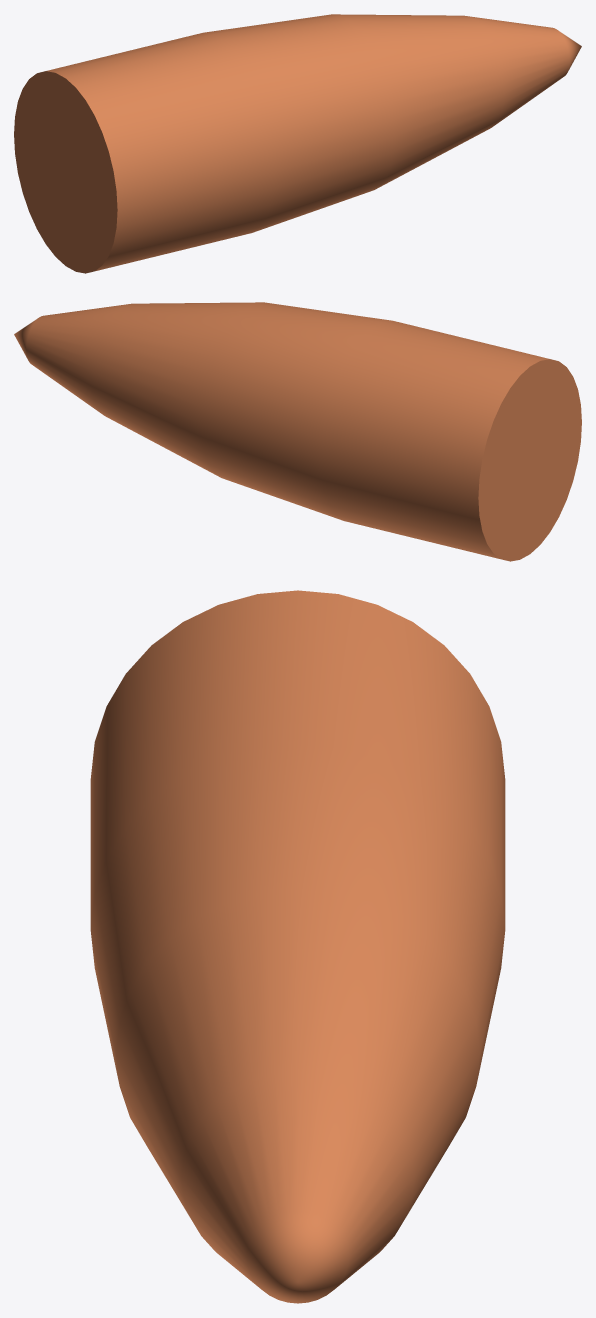
Rendered from bala_comum.obj.
3 renders of one model, top to bottom at view 1: azimuth 30°, elevation 25°; view 2: azimuth 150°, elevation 25°; view 3: azimuth 270°, elevation 25°, orthographic. The views are drawn at different scales.
Bounding box in the file's own units: 0.0656 × 0.0228 × 0.0228.
